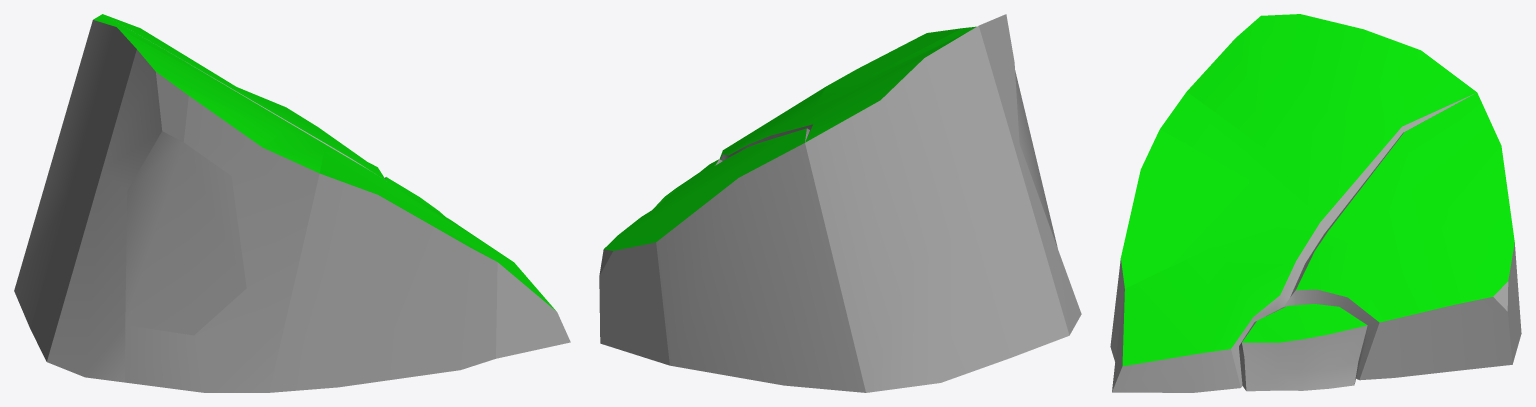
The model's file is rock_beach_small_B.fbx.
3 views of the same model, side by side, from view 1: azimuth 30°, elevation 25°; view 2: azimuth 150°, elevation 25°; view 3: azimuth 270°, elevation 25° (orthographic). The views are drawn at different scales.
Visible parts, largest first — view 1: rock_beach_small_B; view 2: rock_beach_small_B; view 3: rock_beach_small_B.
Boxes of the visible parts, x1,y1,x2,y2 form: rock_beach_small_B: [14, 14, 570, 392]; rock_beach_small_B: [599, 14, 1081, 392]; rock_beach_small_B: [1110, 14, 1521, 392].
Size of the model in its own units: 36.11 by 24.18 by 36.71.
